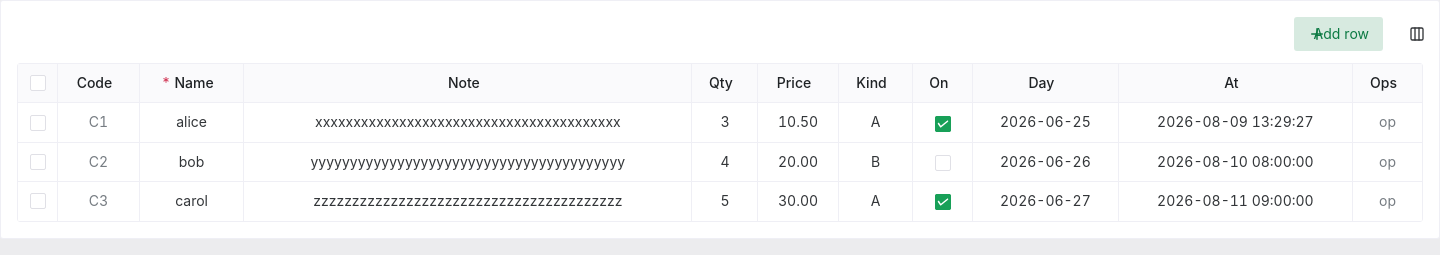
Test: 选中 → 进入编辑 → 提交 › Enter 提交并下移一格;值进草稿(脏标记 + 工具栏「保存修改(1)」),宿主的行对象不被改
Click the cell "alice" at x=192, y=123, box [140,103,244,143]
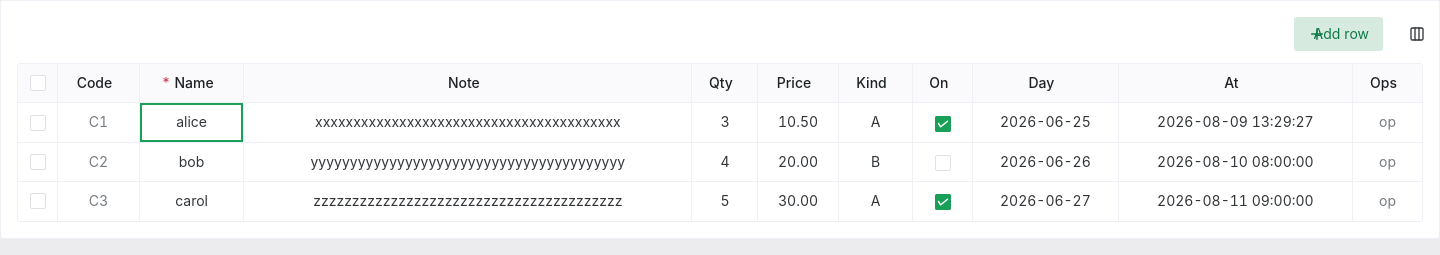
Click the cell "alice" at x=192, y=123, box [140,103,244,143]
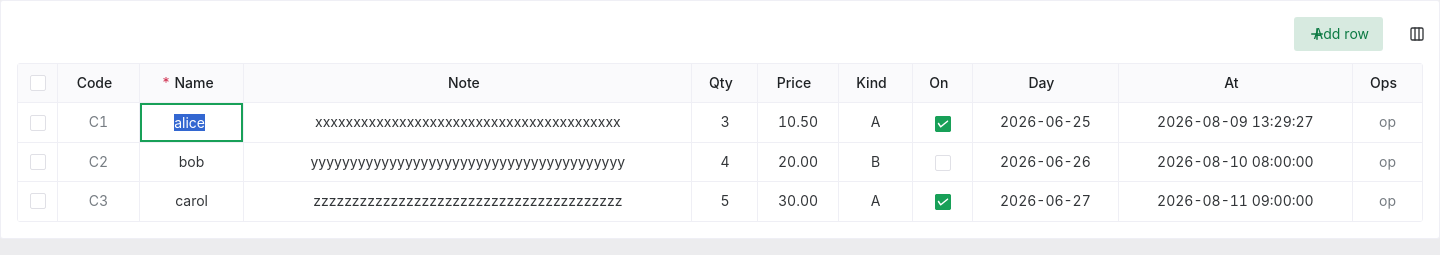
Replace the text in the field with "zed" at x=190, y=123, box [148,103,231,142]
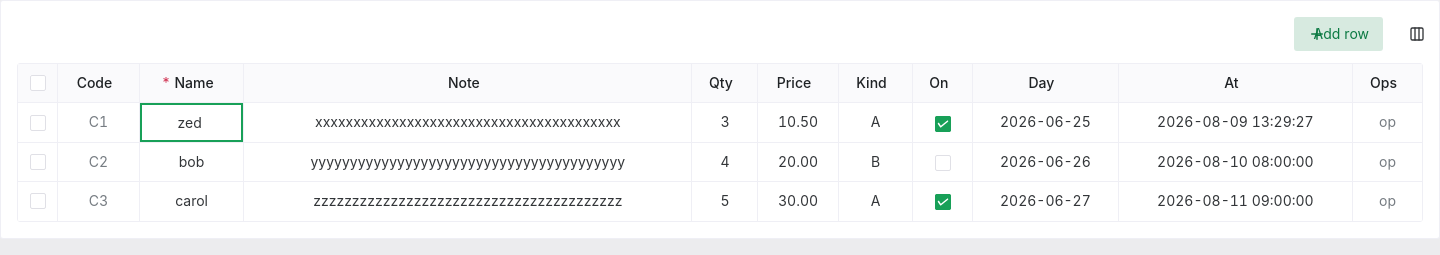
Press Enter in the field, box [148,103,231,142]
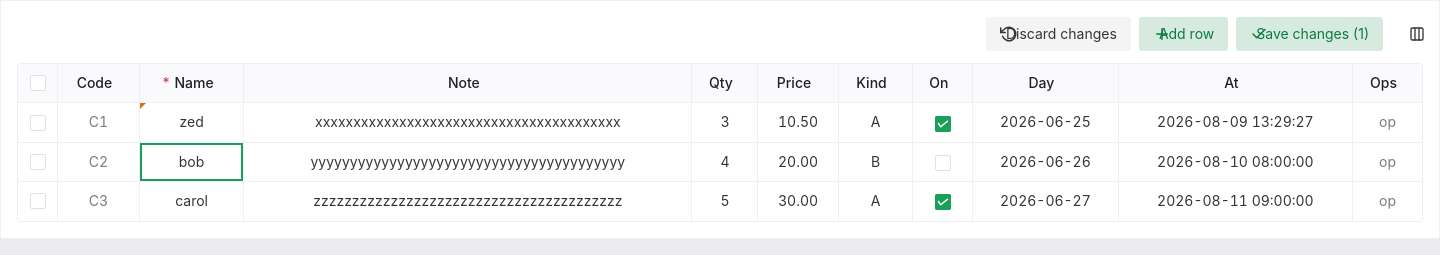
Now the cell "zed" is shown, box [140,103,244,143]
Now the button "Save changes (1)" is shown, box [1236,17,1383,51]
